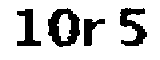0: (44, 7, 80, 49)
1: (10, 5, 43, 48)
5: (118, 4, 147, 50)
r: (81, 16, 109, 50)
